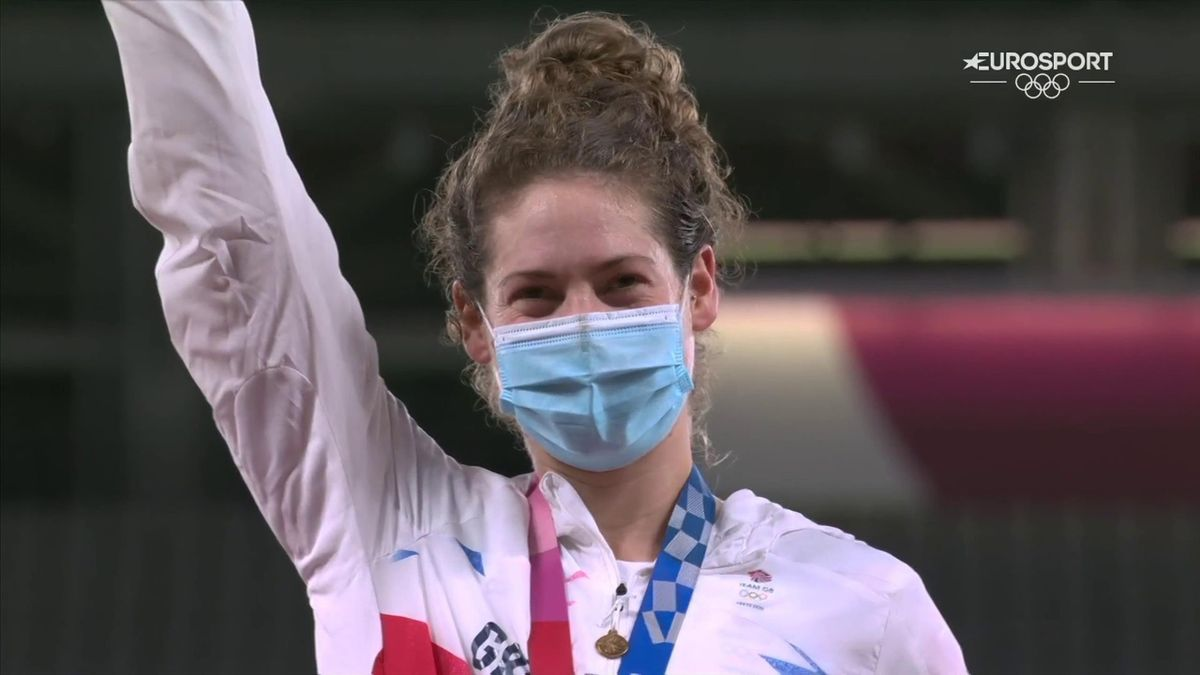with_mask: (487, 254, 686, 439)
